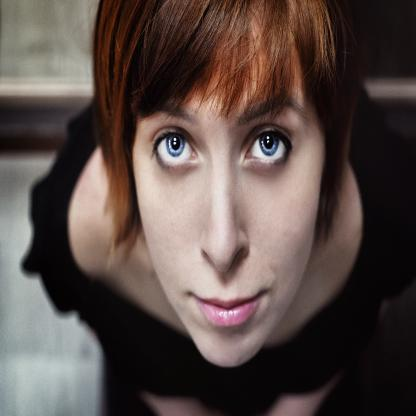Eye: (148, 123, 200, 182), (240, 119, 296, 171)
Mouth: (192, 286, 265, 334)
Nose: (198, 146, 252, 274)
